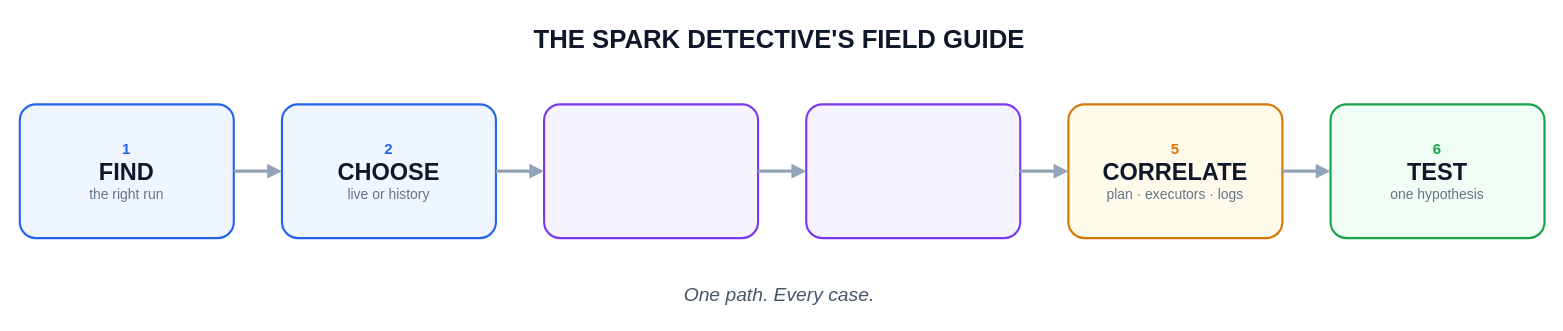
The diagram is 1563 pixels wide and 331 high, and some of its shapes have lost their labels. Each missing label, with the centre of its shape:
"3 LOCALIZE the costly stage" belongs at (650,171).
"4 INSPECT the task shape" belongs at (913,171).
